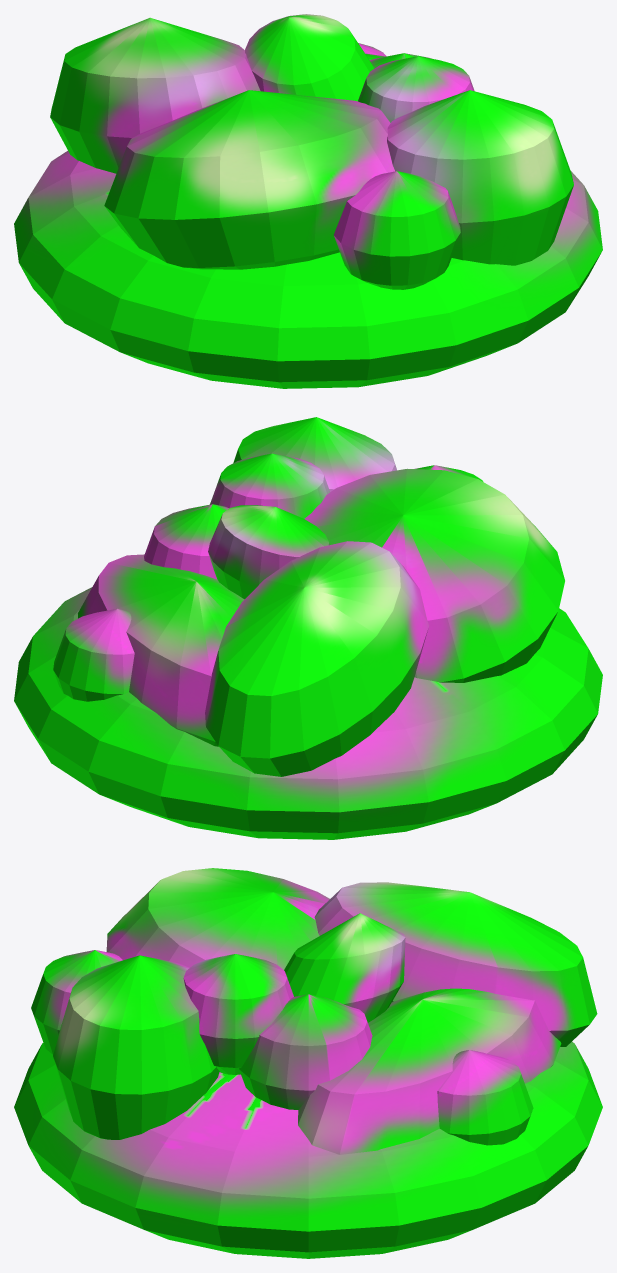
The model's file is poisonedPlot.fbx.
The picture shows the model from 3 angles, top to bottom: view 1: azimuth 30°, elevation 25°; view 2: azimuth 150°, elevation 25°; view 3: azimuth 270°, elevation 25°; orthographic projection.
Parts seen in each view (by area): view 1: poisonPlot:Mesh; view 2: poisonPlot:Mesh; view 3: poisonPlot:Mesh.
Part boxes in pixels (bbox=[...]): poisonPlot:Mesh: bbox=[14, 14, 602, 388]; poisonPlot:Mesh: bbox=[14, 417, 602, 839]; poisonPlot:Mesh: bbox=[14, 868, 602, 1258].
Bounding box in the file's own units: 6.14 × 3.27 × 6.14.
10 materials, 9 textured.
